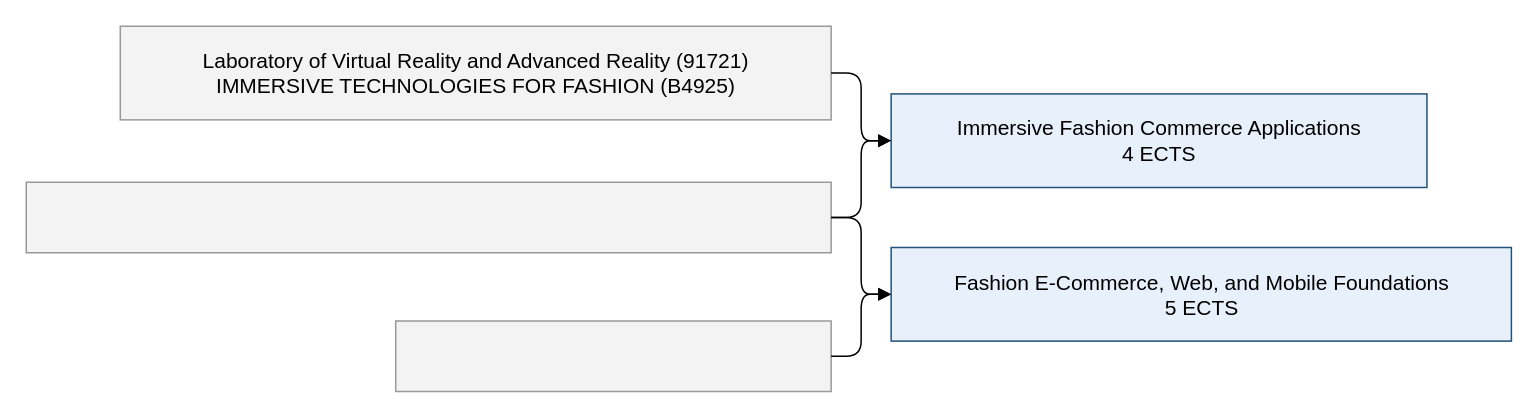
This 1539x419 diagram has some shape labels left out. Each missing label, with the centre of its shape:
Elements of Computer Technologies for Fashion E-Commerce (90864): [428,217]
Web and Mobile Systems (95605): [612,356]
